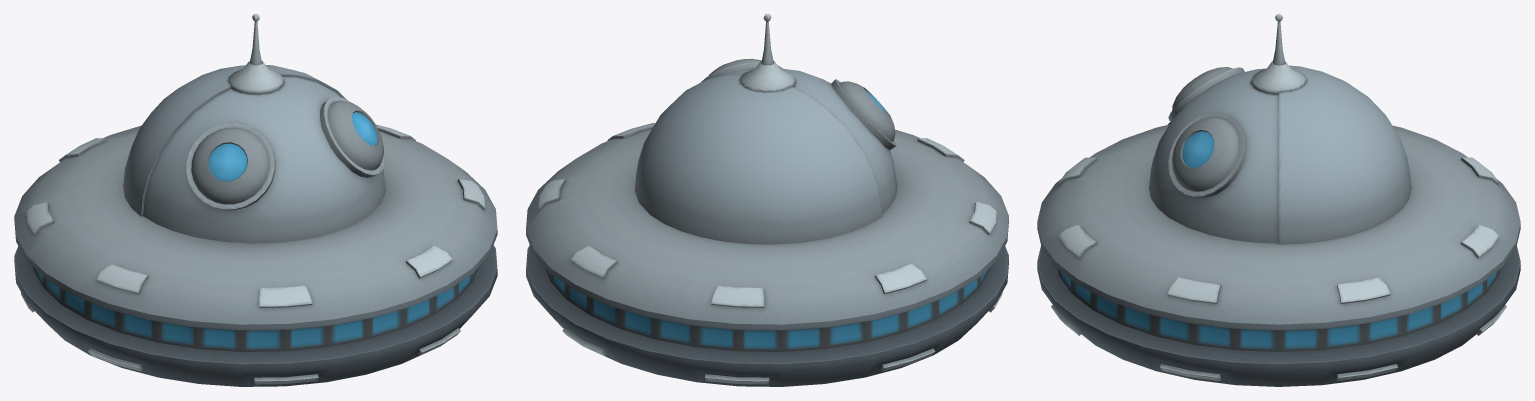
File: ufo.glb
The picture shows the model from 3 angles, left to right: view 1: azimuth 30°, elevation 25°; view 2: azimuth 150°, elevation 25°; view 3: azimuth 270°, elevation 25°; orthographic projection.
Parts seen in each view (by area): view 1: UFO.011; view 2: UFO.011; view 3: UFO.011.
Boxes of the visible parts, x1,y1,x2,y2 form: UFO.011: (14,14,497,386); UFO.011: (526,14,1008,386); UFO.011: (1037,14,1520,386).
Size of the model in its own units: 4.75 by 3.47 by 4.75.
1 material, 1 textured.
